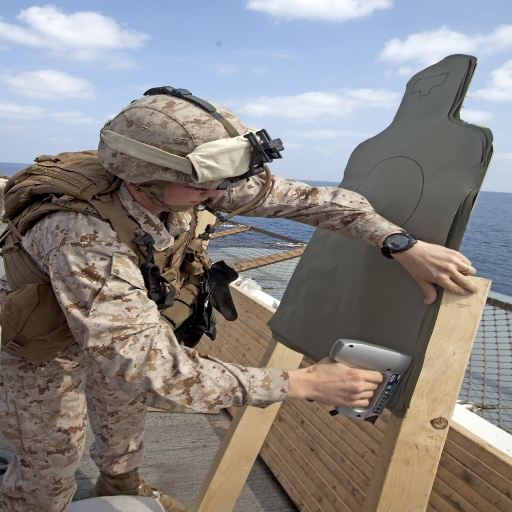hand: (391, 228, 494, 304), (303, 352, 386, 410)
